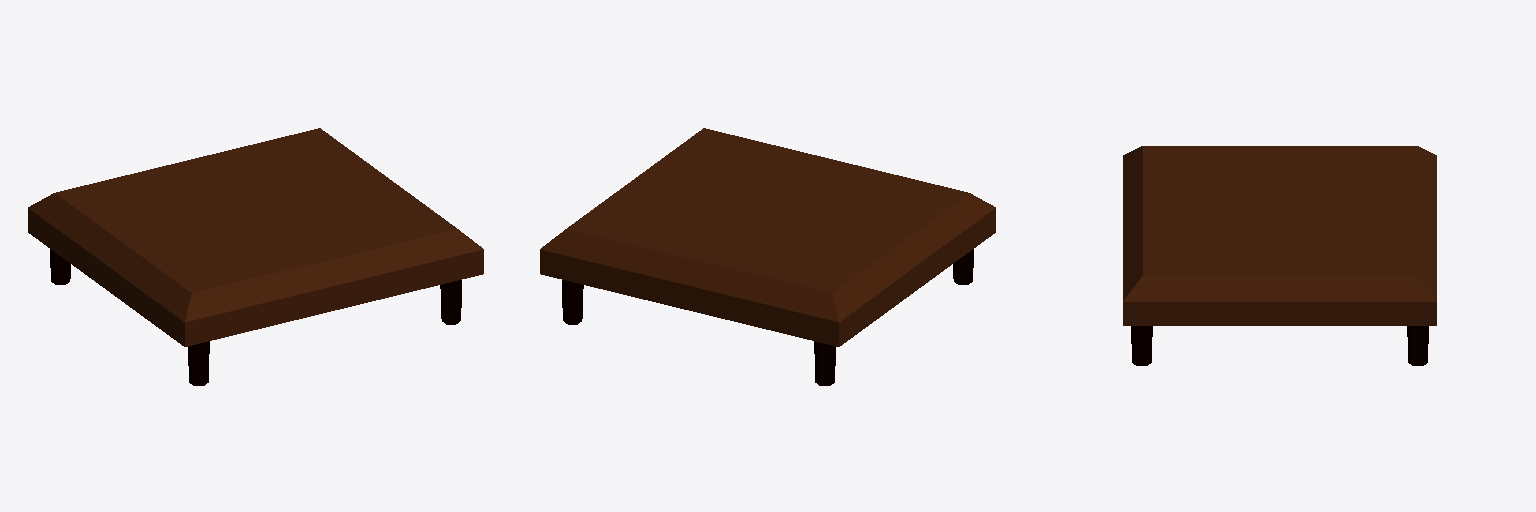
The model's file is OttomanCoffeTable1.obj.
3 renders of one model, left to right at view 1: azimuth 30°, elevation 25°; view 2: azimuth 150°, elevation 25°; view 3: azimuth 270°, elevation 25°, orthographic.
Visible parts, largest first — view 1: OttomanCoffeTable1_Cylinder; view 2: OttomanCoffeTable1_Cylinder; view 3: OttomanCoffeTable1_Cylinder.
Boxes of the visible parts, box(x1,y1,x2,y2) form: OttomanCoffeTable1_Cylinder: box(28, 128, 483, 385); OttomanCoffeTable1_Cylinder: box(540, 128, 995, 385); OttomanCoffeTable1_Cylinder: box(1123, 146, 1436, 365).
Bounding box in the file's own units: 1.58 × 0.4575 × 1.44.